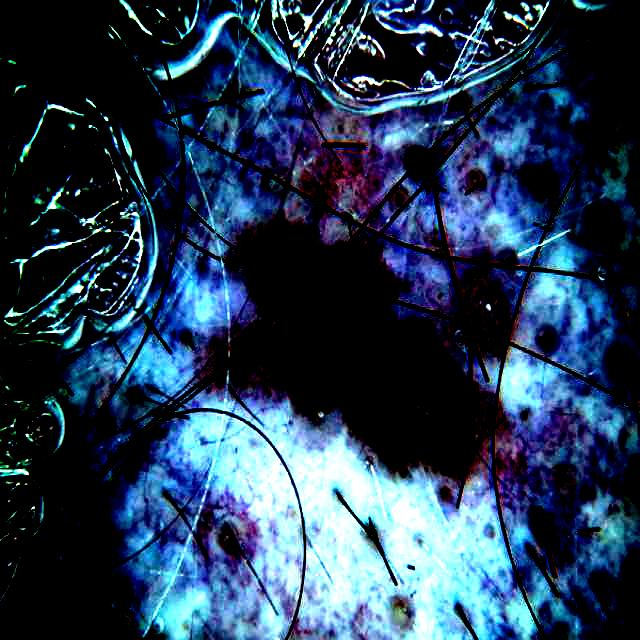AKIEC: (320, 289, 448, 452), (252, 223, 305, 301), (336, 256, 386, 294)
